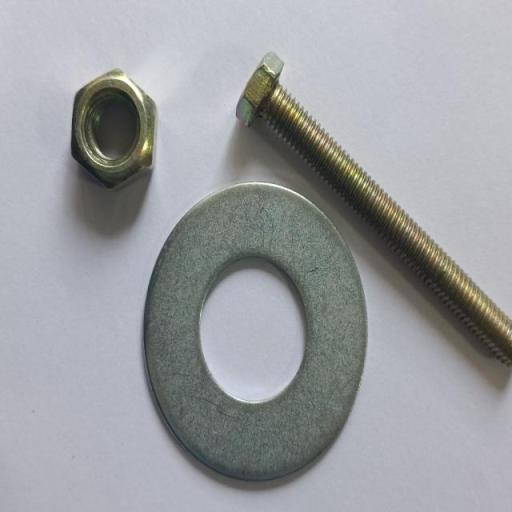Bolt: (235, 51, 511, 367)
Nut: (70, 68, 156, 190)
Washer: (142, 181, 368, 482)
